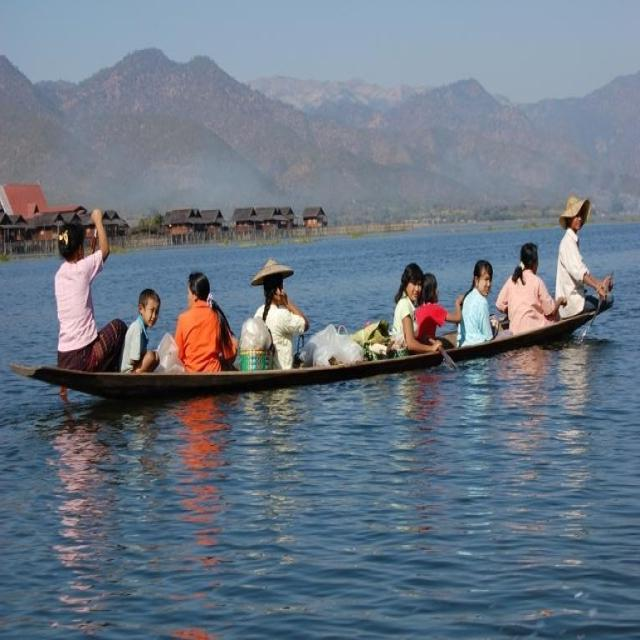boat: (7, 282, 621, 394)
